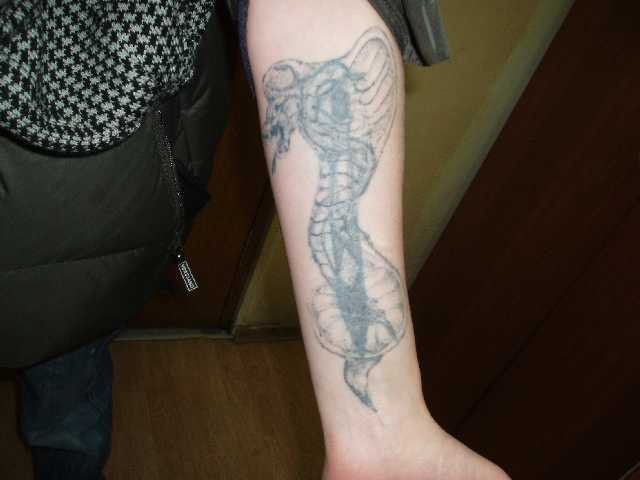tatu7_zmeya: (248, 33, 415, 385)
